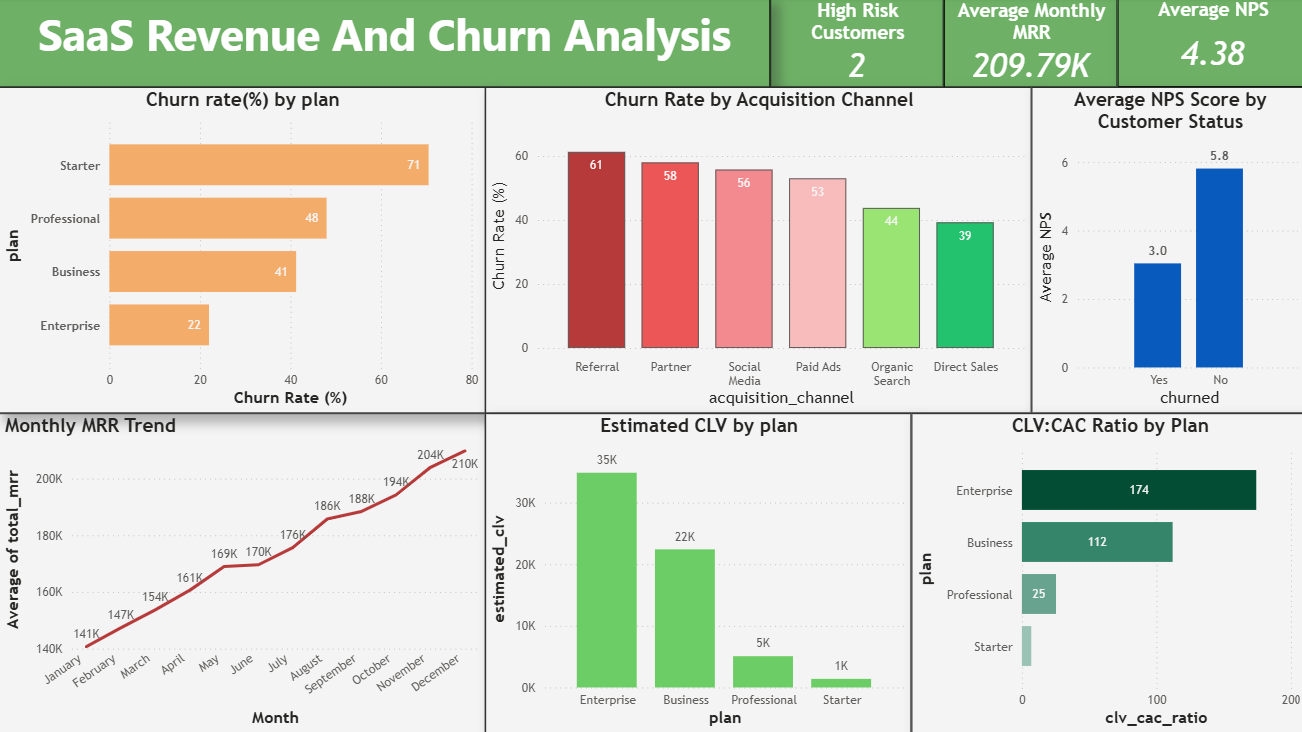

The page's visual inventory and layout, read from the dashboard file:
{"tool":"powerbi","page":{"name":"Dashboard","canvas":[1280,720],"ordinal":0},"visuals":[{"type":"kpi","title":"High Risk Customers","fields":{"Indicator":["Sum(high_risk_customers.high_risk_customers)"],"TrendLine":["high_risk_customers.high_risk_percentage"]},"box":[754.5,1.2,170,86.8],"z":0},{"type":"kpi","title":"Average Monthly MRR","fields":{"TrendLine":["monthly_mrr_trend.month.Variation.Date Hierarchy.Month"],"Indicator":["Avg(monthly_mrr_trend.total_mrr)"]},"box":[924.5,1.2,170,86.8],"z":1000},{"type":"kpi","title":"Average NPS","fields":{"Indicator":["Avg(subscriptions.nps_score)"],"TrendLine":["subscriptions.acquisition_channel"]},"box":[1094.4,0,185.9,88],"z":2000},{"type":"lineChart","title":"Monthly MRR Trend","fields":{"Y":["Avg(monthly_mrr_trend.total_mrr)"],"Category":["monthly_mrr_trend.month.Variation.Date Hierarchy.Month"]},"box":[0,407.2,475.7,313],"z":3000},{"type":"textbox","box":[0,1.2,754.5,86.8],"z":4000},{"type":"clusteredBarChart","title":"Churn rate(%) by plan","fields":{"Category":["churn_rate_by_plan.plan"],"Y":["Avg(churn_rate_by_plan.churn_rate)"]},"box":[0,88,475.7,319.2],"z":5000},{"type":"columnChart","title":"Churn Rate by Acquisition Channel","fields":{"Y":["Avg(churn_rate_by_acquisition_chann.churn_rate)"],"Category":["churn_rate_by_acquisition_chann.acquisition_channel"],"Series":["churn_rate_by_acquisition_chann.acquisition_channel"]},"box":[475.7,88,534.4,319.2],"z":6000},{"type":"columnChart","title":"Average NPS Score by Customer Status","fields":{"Category":["churn_vs_nps.churned"],"Y":["Avg(churn_vs_nps.avg_nps)"]},"box":[1010.1,88,270.2,319.2],"z":7000},{"type":"columnChart","title":"Estimated CLV by plan","fields":{"Category":["clv_cac_ratio.plan"],"Y":["Sum(clv_cac_ratio.estimated_clv)"]},"box":[475.7,407.2,417,313],"z":8000},{"type":"barChart","title":"CLV:CAC Ratio by Plan","fields":{"Y":["Sum(clv_cac_ratio.clv_cac_ratio)"],"Category":["clv_cac_ratio.plan"],"Series":["clv_cac_ratio.plan"]},"box":[892.7,407.2,387.6,313],"z":9000}]}

Visuals, with their boxes in screenshot pixels (x1, y1, x2, y2), scaled from the page's 1280x720 canvas onto the 1302x732 screenshot:
"High Risk Customers" kpi: region(767, 1, 940, 89)
"Average Monthly MRR" kpi: region(940, 1, 1113, 89)
"Average NPS" kpi: region(1113, 0, 1301, 89)
"Monthly MRR Trend" lineChart: region(0, 414, 484, 731)
textbox: region(0, 1, 767, 89)
"Churn rate(%) by plan" clusteredBarChart: region(0, 89, 484, 414)
"Churn Rate by Acquisition Channel" columnChart: region(484, 89, 1027, 414)
"Average NPS Score by Customer Status" columnChart: region(1027, 89, 1301, 414)
"Estimated CLV by plan" columnChart: region(484, 414, 908, 731)
"CLV:CAC Ratio by Plan" barChart: region(908, 414, 1301, 731)
